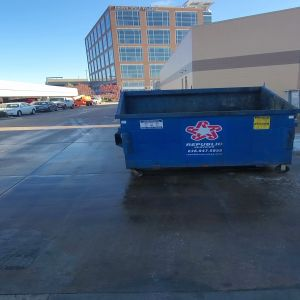Dumpster: (114, 87, 298, 178)
